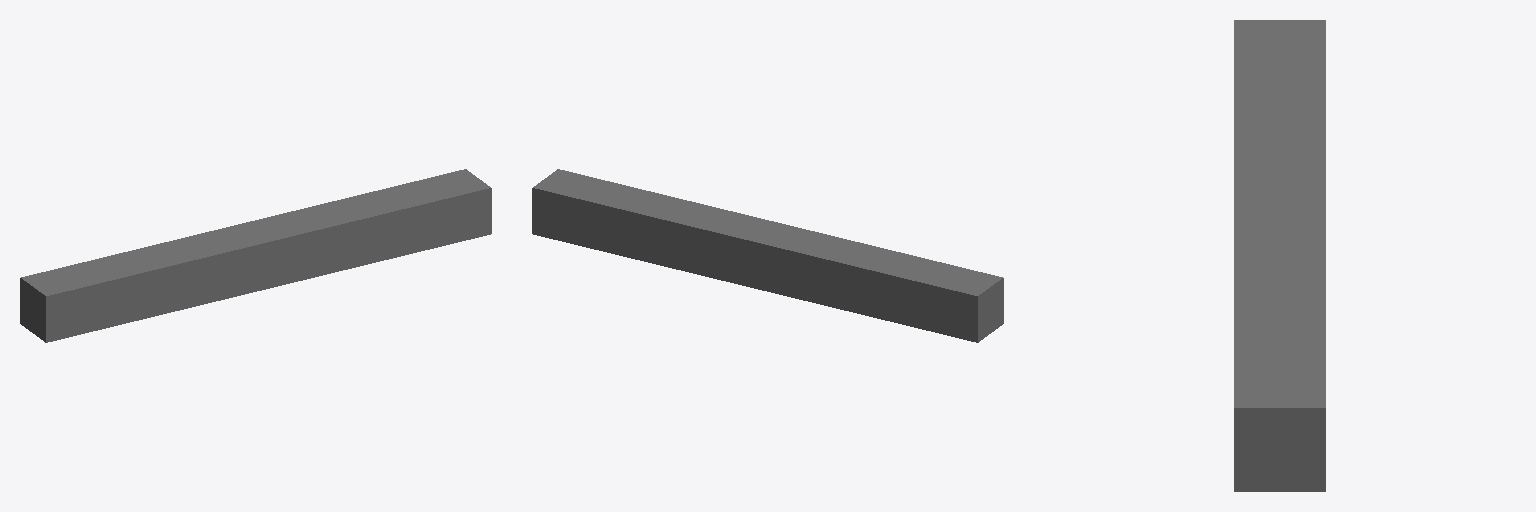
The robot description file, URDF, robot "object":
<?xml version="1.0"?>
<robot name="object">
  <link name="object">
    <visual>
      <origin xyz="0 0 0"/>
      <geometry>
        <box size="0.5 0.05 0.05"/>
      </geometry>
      <material name="mat">
        <color rgba="0.5 0.5 0.5 1"/>
      </material>
    </visual>

    <collision>
      <origin xyz="0 0 0"/>
      <geometry>
        <box size="0.5 0.05 0.05"/>
      </geometry>
    </collision>
  </link>
</robot>

--- Render facts (derived) ---
3 views of the same robot in one strip: view 1: azimuth 30°, elevation 25°; view 2: azimuth 150°, elevation 25°; view 3: azimuth 270°, elevation 25° (orthographic).
Robot: object — 1 links, 0 joints (none); root link object; default pose: every joint at zero.
Links seen in each view (by area): view 1: object; view 2: object; view 3: object.
Link boxes in pixels (x1,y1,x2,y2): object: (20, 169, 491, 342); object: (532, 169, 1003, 342); object: (1234, 20, 1325, 491).
Bounding box of the posed robot: 0.5 × 0.05 × 0.05 m (x, y, z).
Geometry: primitives only (box / cylinder / sphere), no mesh files.
